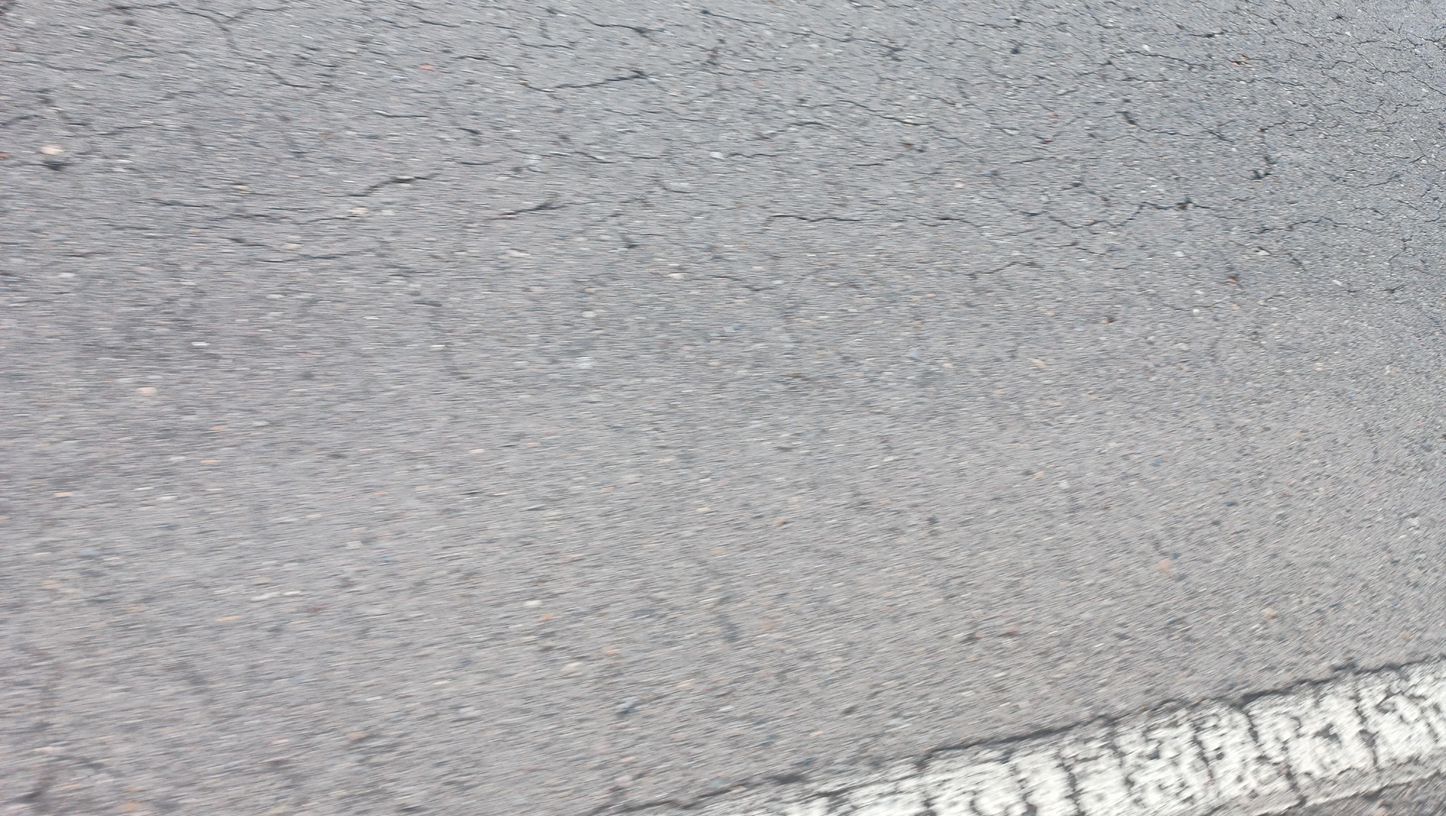PIEL DE COCODRILO: (0, 0, 1446, 330)
